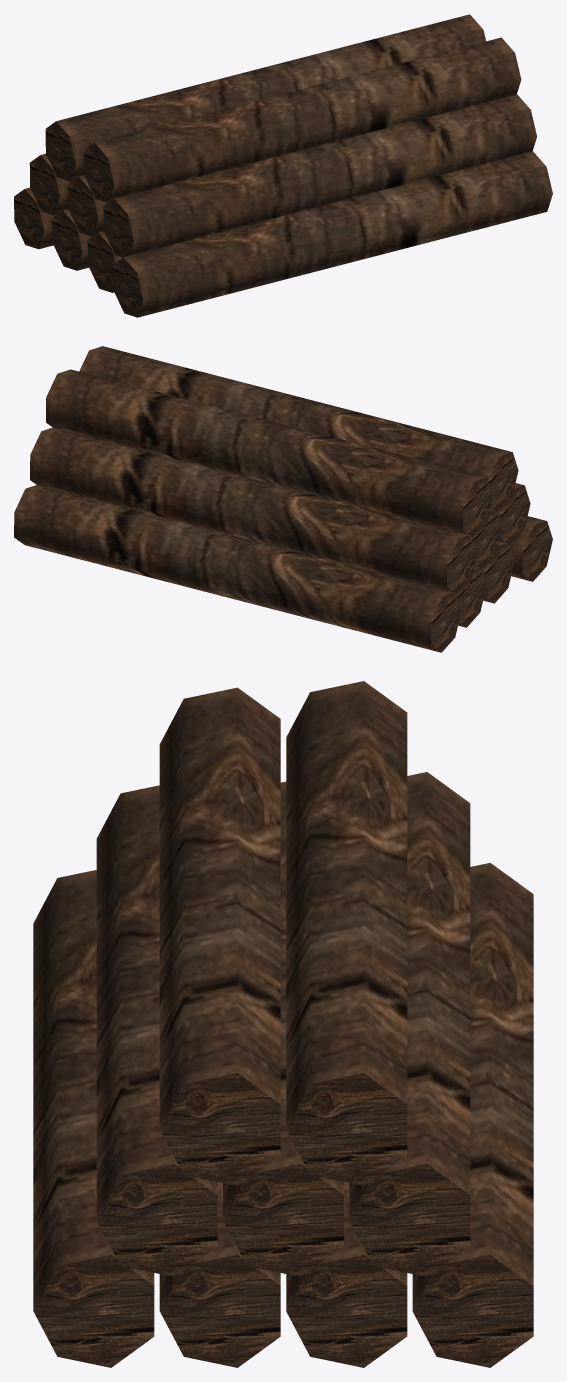
The model's file is logs.glb.
3 views of the same model, one above another, from view 1: azimuth 30°, elevation 25°; view 2: azimuth 150°, elevation 25°; view 3: azimuth 270°, elevation 25° (orthographic). The views are drawn at different scales.
Parts seen in each view (by area): view 1: part_0; view 2: part_0; view 3: part_0.
Part boxes in pixels (left/top/right/bottom): part_0: left=14, top=14, right=552, bottom=317; part_0: left=14, top=346, right=552, bottom=652; part_0: left=33, top=681, right=533, bottom=1367.
Bounding box in the file's own units: 1.1 × 0.3873 × 0.5736.
Materials: 1 (1 with a texture image).
